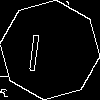I: (25, 25, 44, 72)
